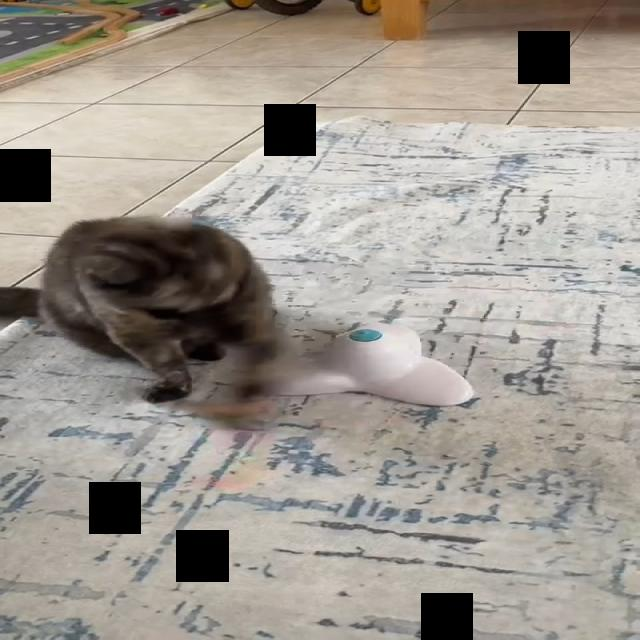authorized: (0, 214, 284, 418)
